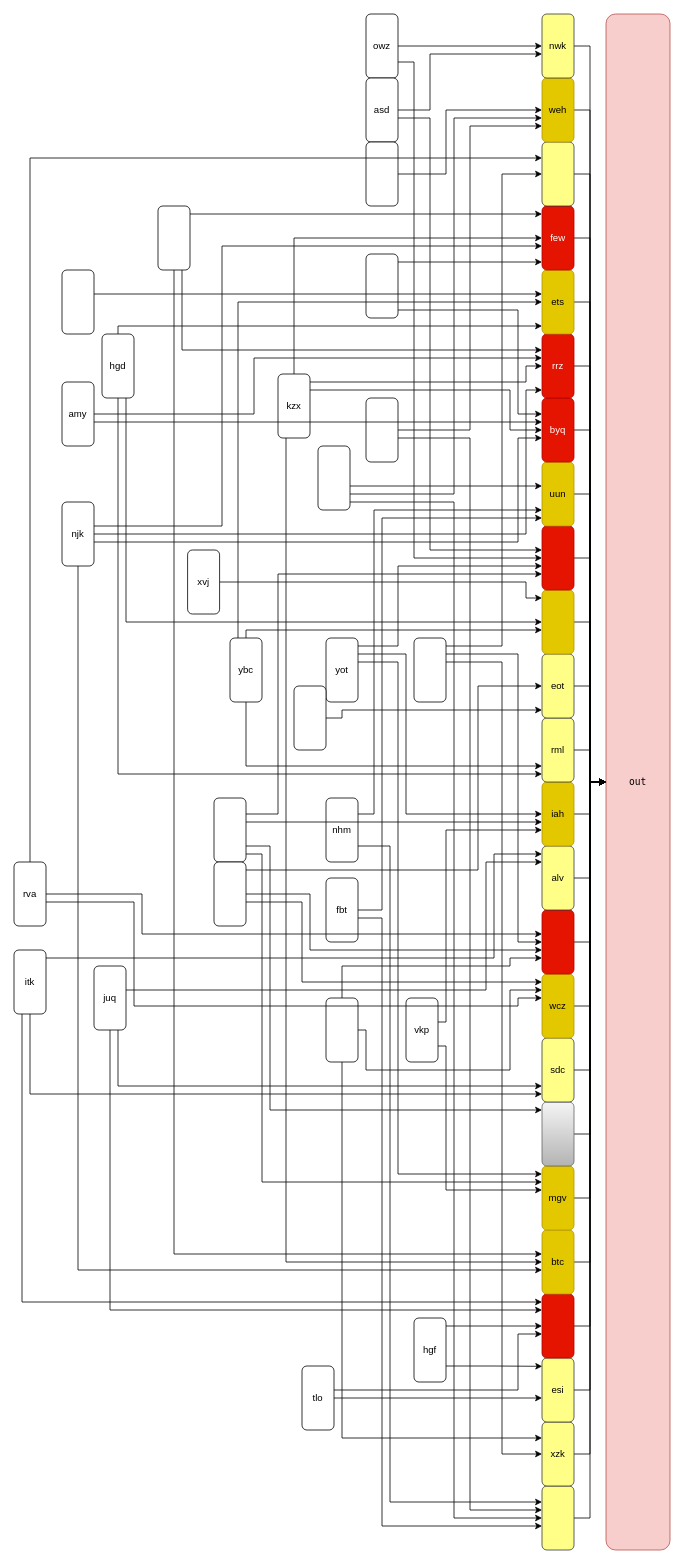
Some shapes in this 684 by 1564 pixel diagram are drawn without their labels. The centre of each missing label's shape, as x and y in pixels:
abc: [557,557]
dfi: [381,429]
fwt: [429,669]
gfb: [557,1517]
guu: [557,173]
hcw: [173,237]
nbj: [229,893]
nbr: [381,285]
nud: [309,717]
obh: [557,941]
okc: [229,829]
sxj: [557,1133]
tjv: [557,1325]
uku: [341,1029]
vnf: [77,301]
vsy: [333,477]
xkj: [381,173]
zum: [557,621]
